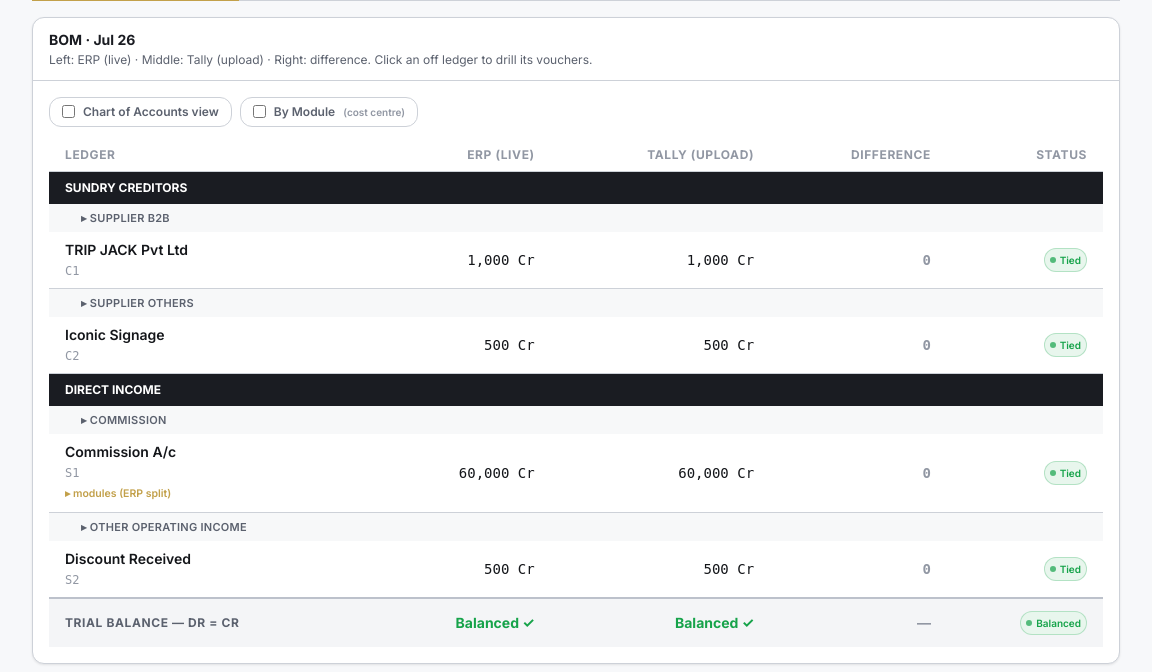
it: Tally Reconciliation · tie-out board render › chart sub-group nesting + the ERP module drill (toggle ONLY where a real split exists)
(page scrolled)
Expected: the text "▸ Supplier B2B" is shown, [49,204,1103,232]
Expected: the text "▸ Supplier Others" is shown, [49,288,1103,316]
# Clicking it fetches + shows the ERP cost-centre split, scoped to that ledger.
What coordinates should you click on to do the following:
click the button "▸ modules (ERP split)"
I would click on:
 (118, 494)
Its box is [65,484,171,504].
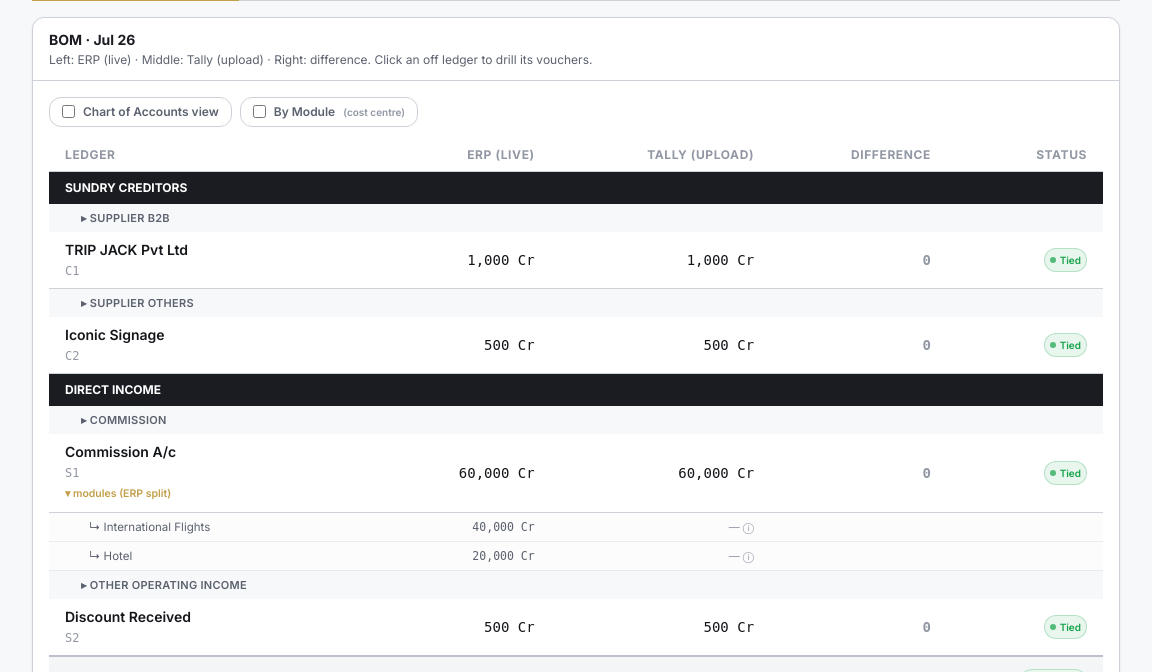
Expected: the text "↳ International Flights" is shown, [49,512,375,541]
Expected: the text "↳ Hotel" is shown, [49,541,375,570]
